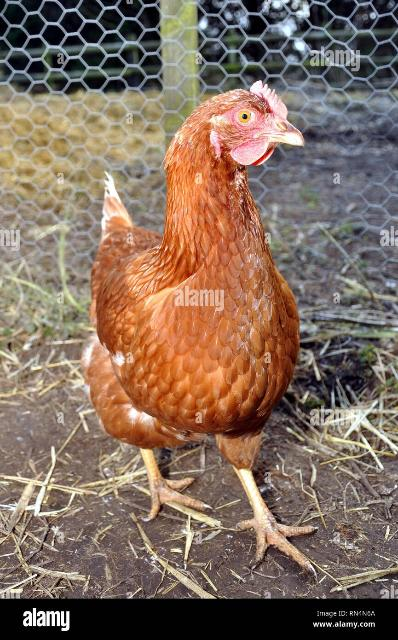Chicken: (83, 80, 323, 577)
